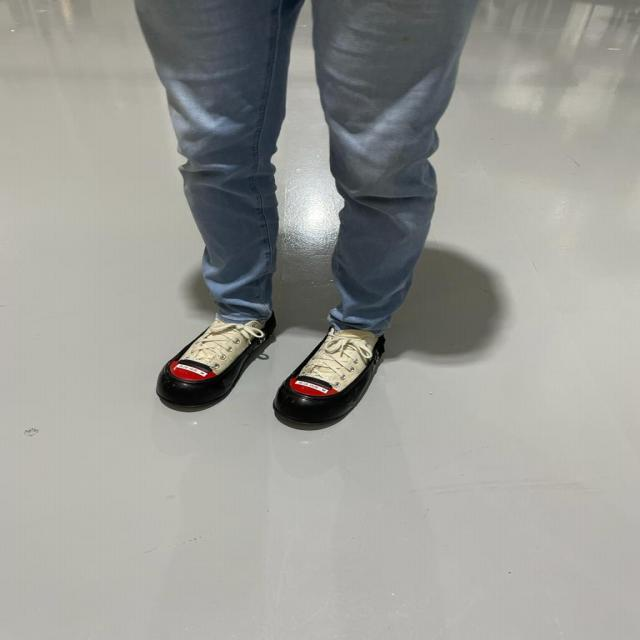shoes: (154, 309, 274, 419), (267, 330, 395, 433)
